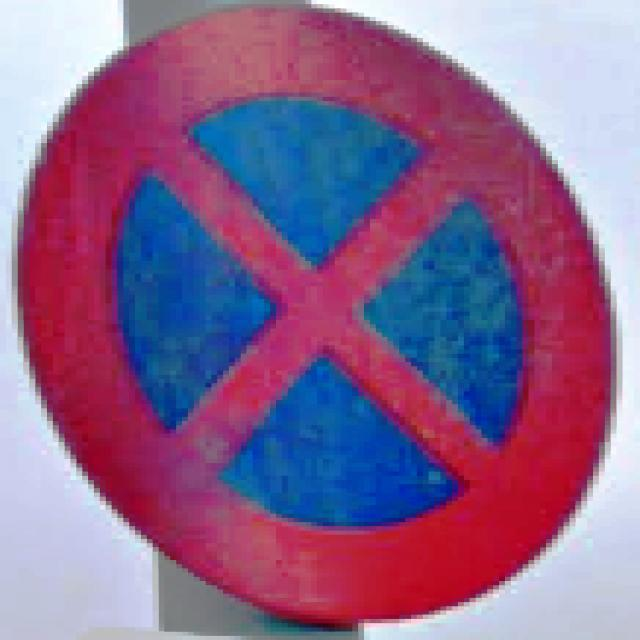nostop: (11, 0, 622, 627)
